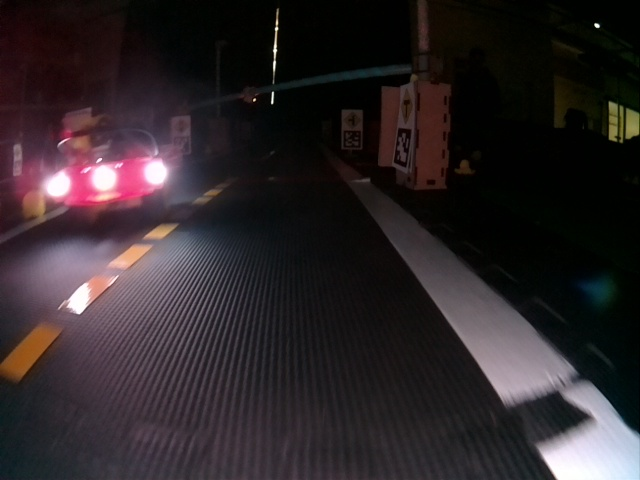Duckie: (22, 192, 46, 218), (454, 159, 472, 175)
Duckiebot: (48, 127, 167, 211)
Intersection sign: (400, 87, 414, 126), (344, 111, 361, 128)
QR code: (392, 127, 412, 168), (344, 130, 362, 147)
